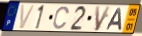1: (34, 5, 45, 30)
2: (69, 5, 87, 32)
A: (105, 7, 123, 31)
C: (52, 5, 70, 30)
V: (94, 5, 112, 32), (19, 4, 36, 30)
